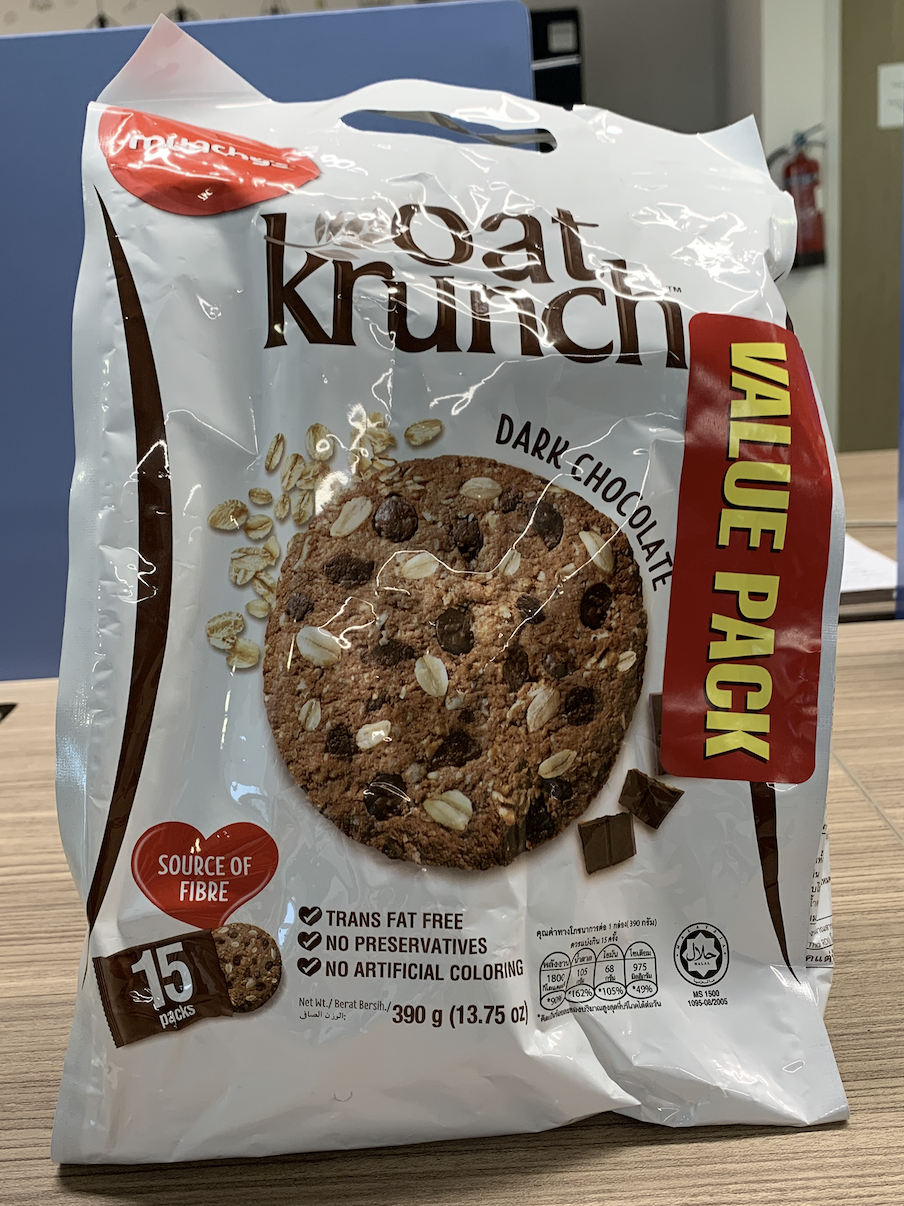cookies_450g: (123, 110, 793, 1088)
